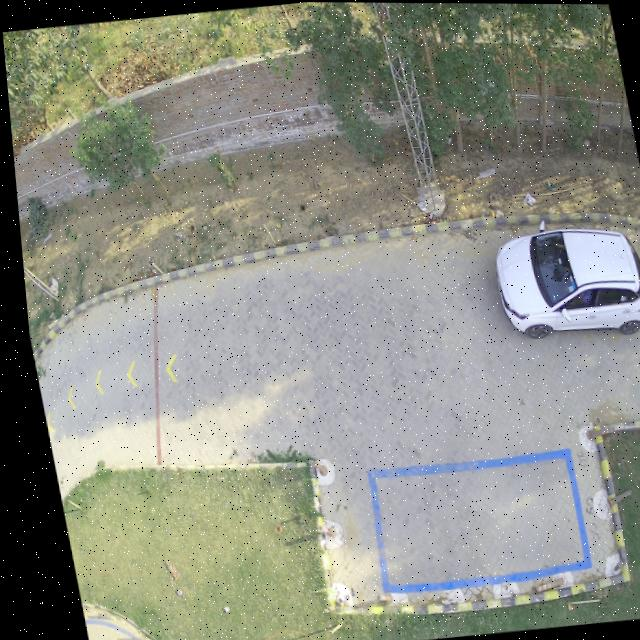car: (490, 227, 640, 337)
